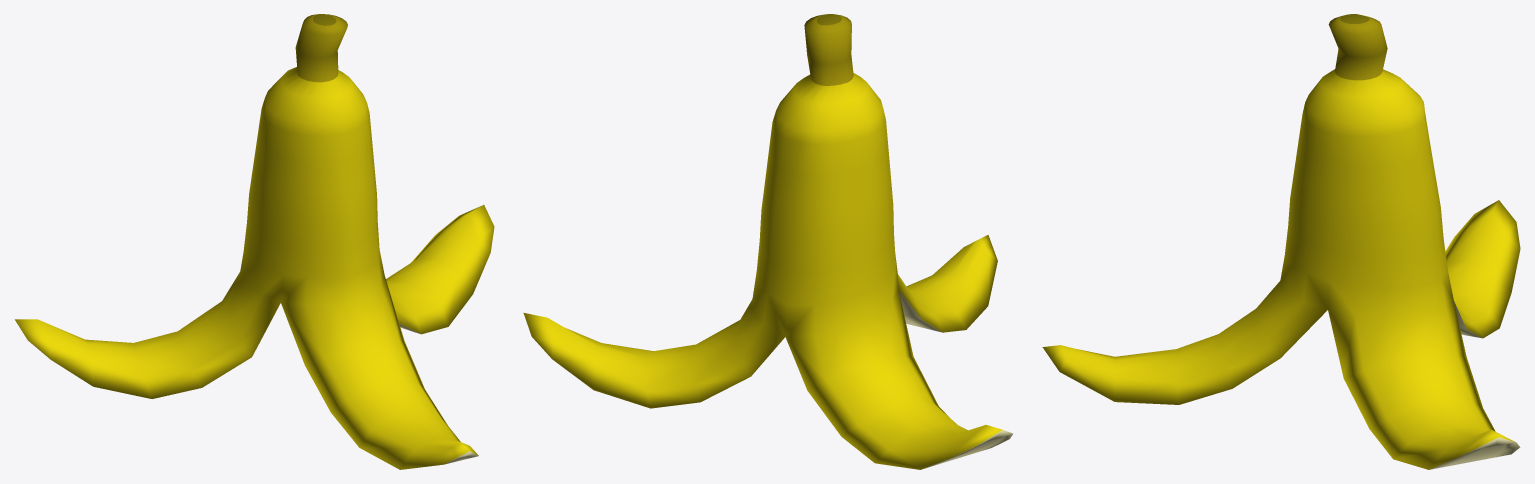
File: Bananaa.fbx
3 views of the same model, side by side, from view 1: azimuth 30°, elevation 25°; view 2: azimuth 150°, elevation 25°; view 3: azimuth 270°, elevation 25° (orthographic). The views are drawn at different scales.
Parts seen in each view (by area): view 1: Banana; view 2: Banana; view 3: Banana.
Part boxes in pixels (x1=…): Banana: x1=15, y1=14, x2=494, y2=469; Banana: x1=523, y1=14, x2=1012, y2=469; Banana: x1=1042, y1=14, x2=1520, y2=469.
Bounding box in the file's own units: 211 × 152 × 179.
